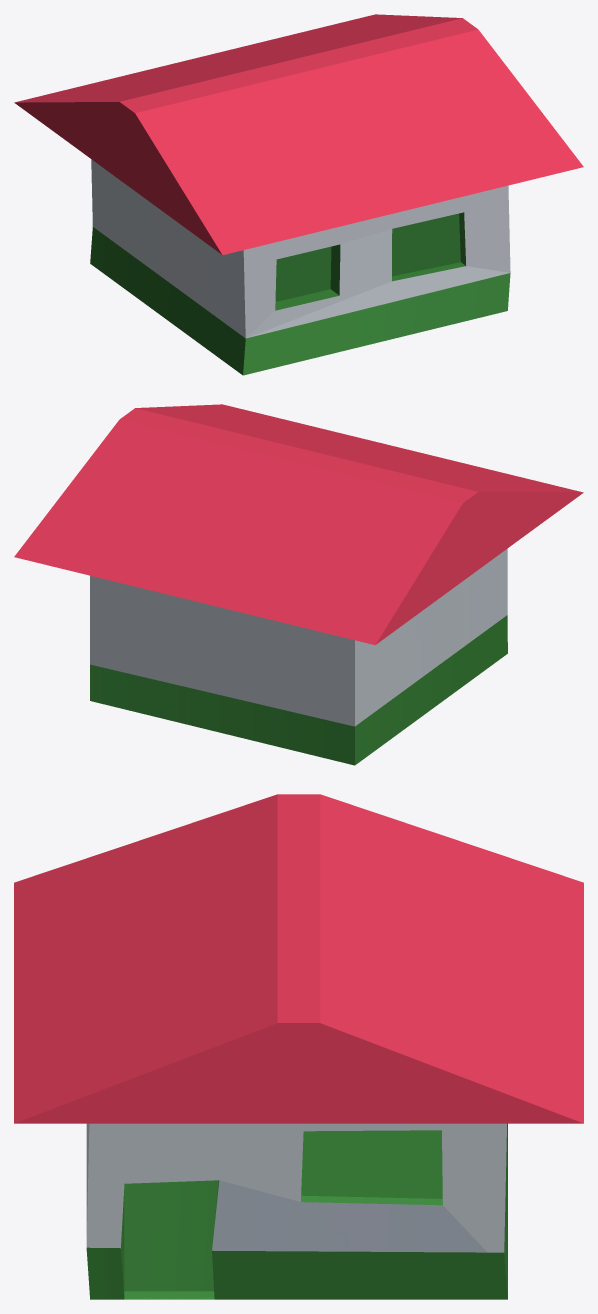
File: casa_7_2.glb
The picture shows the model from 3 angles, top to bottom: view 1: azimuth 30°, elevation 25°; view 2: azimuth 150°, elevation 25°; view 3: azimuth 270°, elevation 25°; orthographic projection. The views are drawn at different scales.
Parts seen in each view (by area): view 1: Cube; view 2: Cube; view 3: Cube.
Part boxes in pixels (bbox=[...]): Cube: bbox=[14, 14, 583, 375]; Cube: bbox=[14, 404, 583, 765]; Cube: bbox=[14, 794, 583, 1299].
Size of what is drawn, in the model's own units: 25.66 by 15.04 by 25.66.
1 material, 1 textured.
